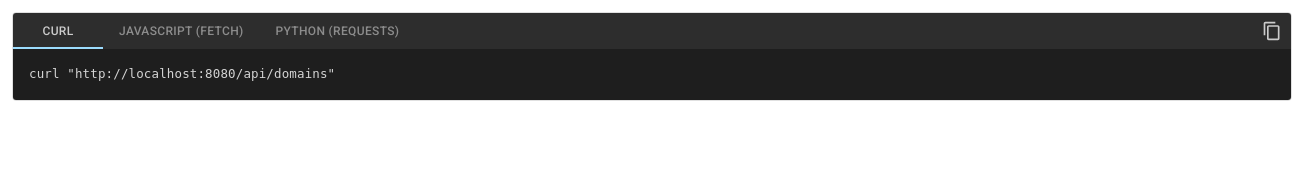
Test: SnippetBlock › shows "Copié !" feedback after copy
Click the button named "Copier": coordinates (1272, 31) [1257,16,1287,46]
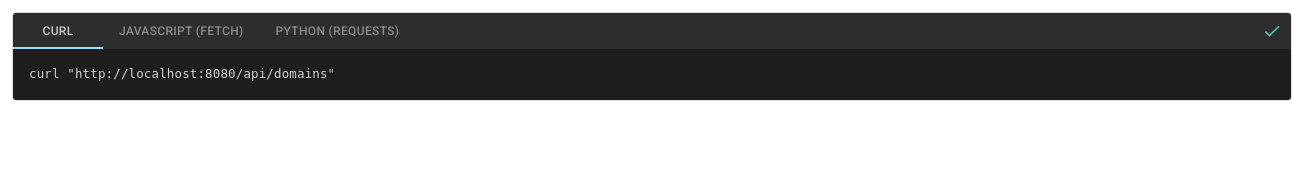
Expected: the button named "Copié !" is shown, [1257,16,1287,46]
